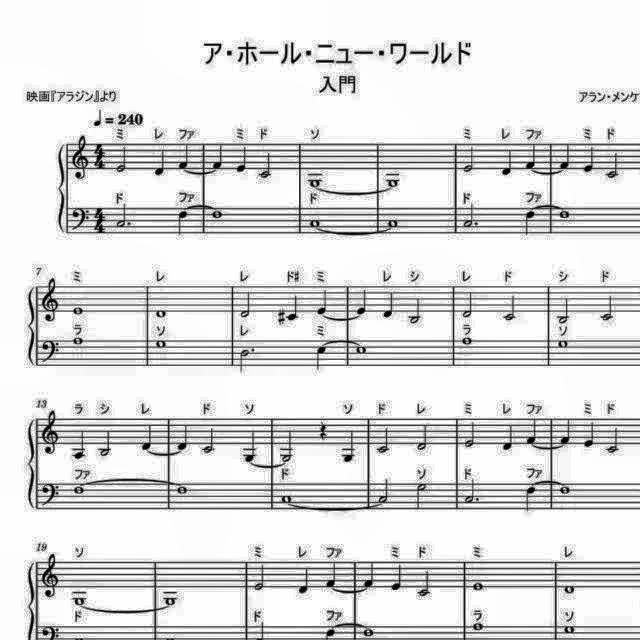Bass-clef: (38, 337, 62, 367), (38, 479, 62, 509), (68, 204, 92, 232), (71, 481, 89, 503)
Diez: (274, 308, 286, 328)
Full-note: (162, 591, 182, 609), (69, 592, 89, 608), (384, 174, 402, 190), (172, 482, 190, 498), (562, 582, 578, 598), (384, 216, 402, 230), (69, 305, 87, 319), (307, 177, 325, 190), (468, 580, 484, 594), (352, 343, 368, 357), (562, 624, 578, 638), (557, 483, 573, 497), (307, 216, 323, 230), (70, 336, 88, 348), (208, 208, 225, 220), (470, 620, 484, 634), (152, 308, 168, 320), (278, 492, 294, 504), (458, 336, 474, 348), (152, 340, 168, 352), (556, 338, 572, 350), (556, 208, 572, 220)
Half-dot: (116, 202, 136, 232), (460, 478, 480, 506), (462, 202, 482, 230)
Half-note: (278, 430, 298, 464), (236, 345, 258, 375), (502, 293, 522, 323), (603, 150, 621, 182), (597, 294, 617, 322), (97, 430, 115, 460), (258, 151, 276, 181), (603, 427, 621, 457), (252, 562, 268, 594), (415, 570, 433, 598), (201, 426, 219, 454), (414, 481, 430, 512), (462, 421, 478, 452), (238, 290, 254, 320), (463, 143, 479, 173), (376, 475, 392, 505), (460, 291, 476, 321), (556, 294, 572, 324), (408, 294, 424, 324), (376, 425, 392, 455), (416, 422, 430, 453), (114, 146, 128, 174)
Quarter-note: (339, 428, 359, 466), (240, 428, 260, 464), (70, 429, 88, 463), (294, 566, 312, 598), (354, 286, 370, 318), (522, 482, 538, 514), (359, 559, 376, 589), (138, 424, 156, 452), (174, 208, 192, 236), (582, 418, 598, 449), (388, 562, 404, 592), (582, 145, 598, 175), (152, 148, 168, 178), (234, 145, 250, 175), (524, 417, 540, 447), (284, 294, 300, 324), (314, 342, 330, 372), (174, 424, 190, 452), (314, 288, 330, 316), (558, 142, 574, 170), (326, 561, 342, 589), (382, 288, 396, 320), (500, 146, 514, 178), (524, 208, 540, 236), (500, 424, 514, 454), (559, 416, 573, 446), (176, 144, 190, 172), (211, 142, 225, 170), (524, 144, 538, 170)
Quarter-rest: (315, 418, 329, 442)
Treble-clef: (39, 276, 63, 324), (39, 552, 63, 600), (40, 408, 62, 457), (69, 132, 91, 180)
